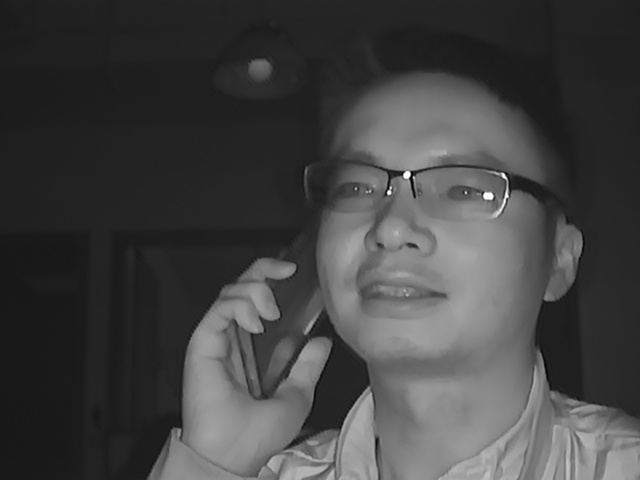hand: (177, 258, 324, 454)
